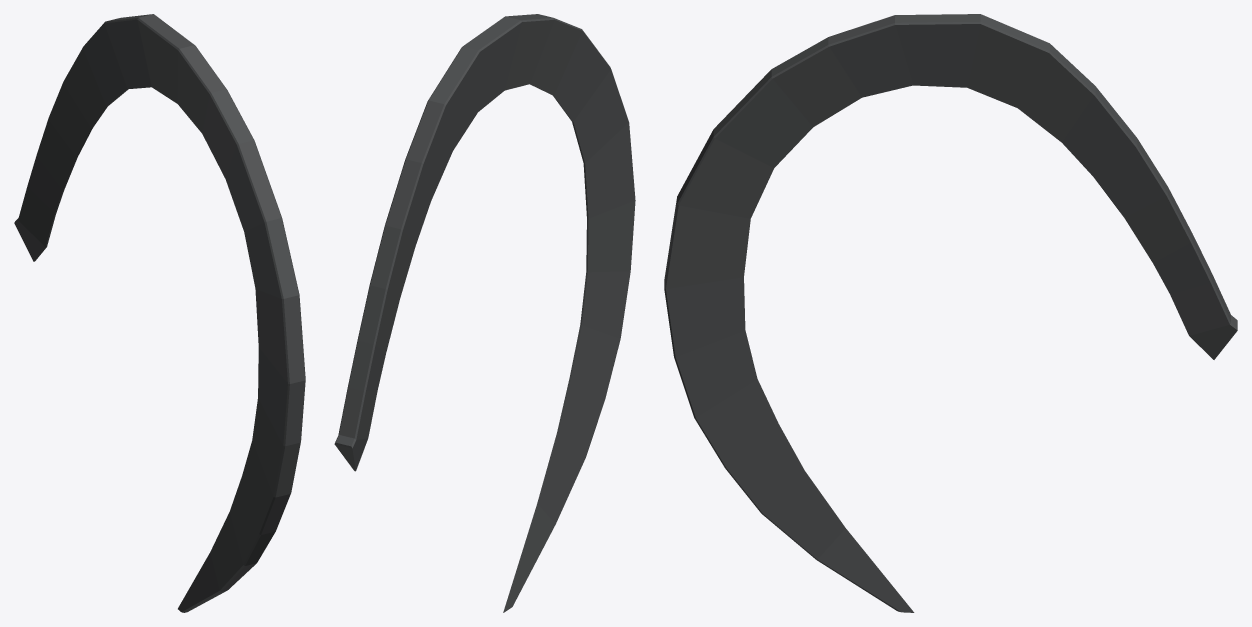
Rendered from HozhojaRota.fbx.
The picture shows the model from 3 angles, left to right: view 1: azimuth 30°, elevation 25°; view 2: azimuth 150°, elevation 25°; view 3: azimuth 270°, elevation 25°; orthographic projection. The views are drawn at different scales.
Visible parts, largest first — view 1: HozHojaRota; view 2: HozHojaRota; view 3: HozHojaRota.
Part boxes in pixels (x1,y1,x2,y2): HozHojaRota: [14, 14, 305, 612]; HozHojaRota: [334, 14, 635, 612]; HozHojaRota: [664, 14, 1237, 612].
Bounding box in the file's own units: 1.04 × 31.79 × 27.77.
